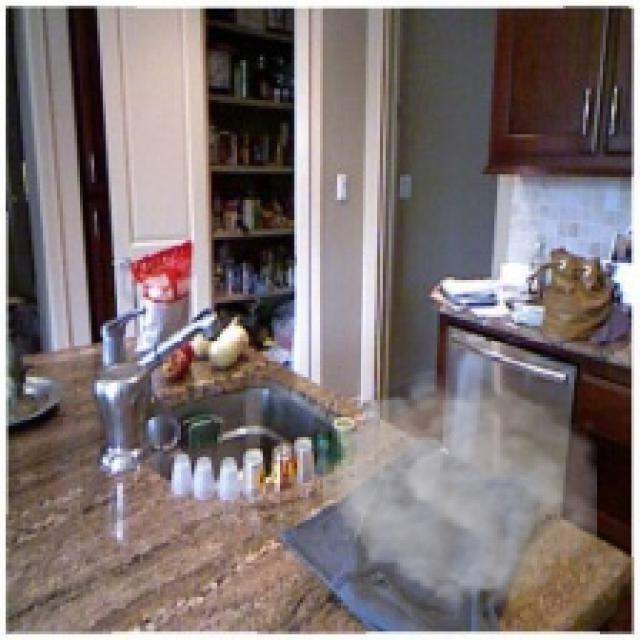Smoke: (322, 368, 598, 614)
